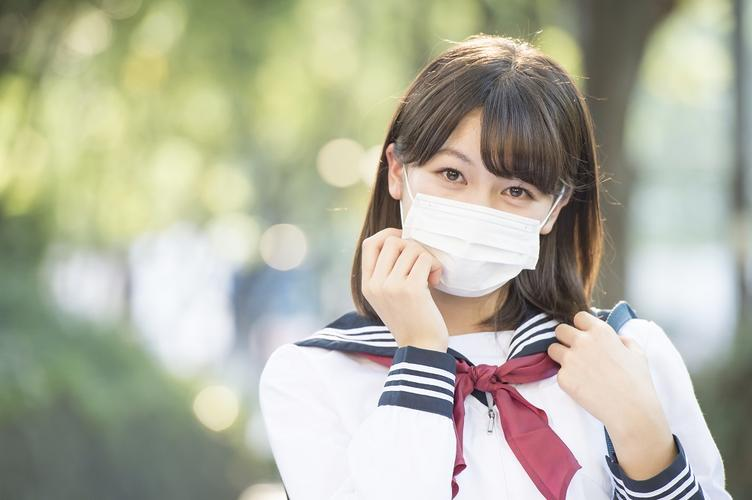mask: (399, 82, 573, 305)
